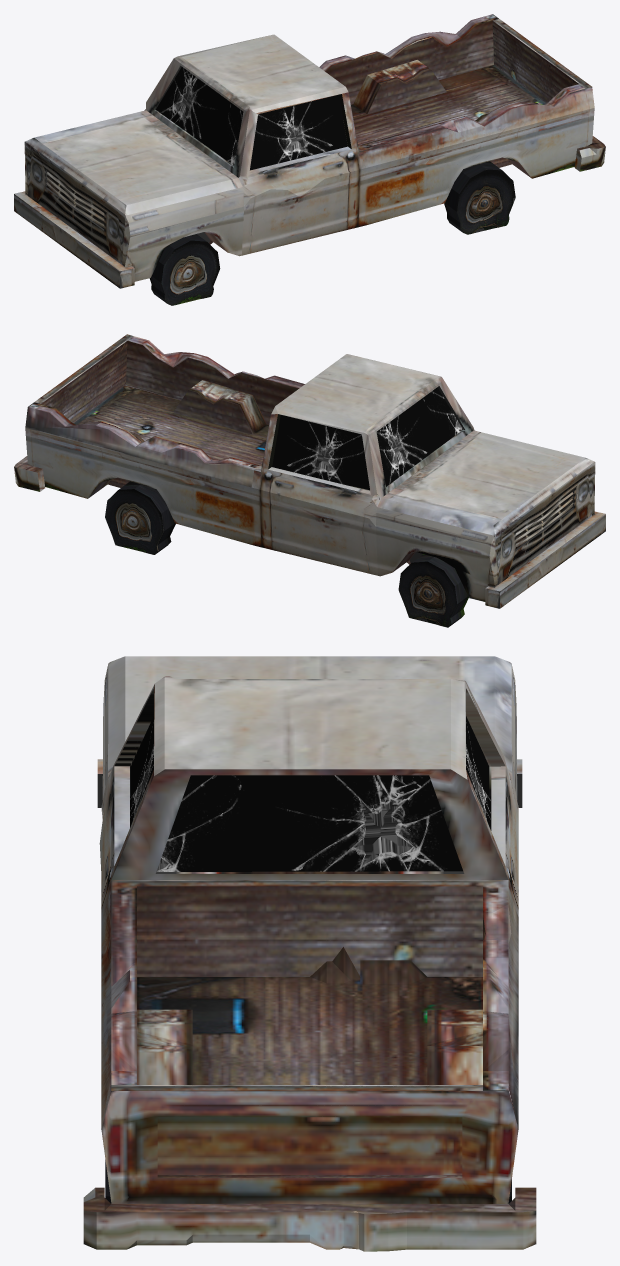
File: ford.fbx
The picture shows the model from 3 angles, top to bottom: view 1: azimuth 30°, elevation 25°; view 2: azimuth 150°, elevation 25°; view 3: azimuth 270°, elevation 25°; orthographic projection. The views are drawn at different scales.
Parts seen in each view (by area): view 1: Cube, Cube.001, Cube.002, Cylinder.003, Cylinder.002; view 2: Cube, Cube.001, Cube.002, Cylinder.004, Cylinder.001; view 3: Cube, Cube.003, Cube.001.
Boxes of the visible parts, x1,y1,x2,y2 form: Cube: (14,14,605,288); Cube.001: (250,94,347,170); Cube.002: (156,67,243,165); Cylinder.003: (444,161,515,234); Cylinder.002: (149,234,220,305); Cube: (14,334,605,608); Cube.001: (272,415,369,490); Cube.002: (376,387,462,499); Cylinder.004: (105,481,175,554); Cylinder.001: (398,554,468,627); Cube: (83,656,536,1251); Cube.003: (156,775,462,871); Cube.001: (130,716,490,829).
Size of the model in its own units: 4154 by 1334 by 1674.
